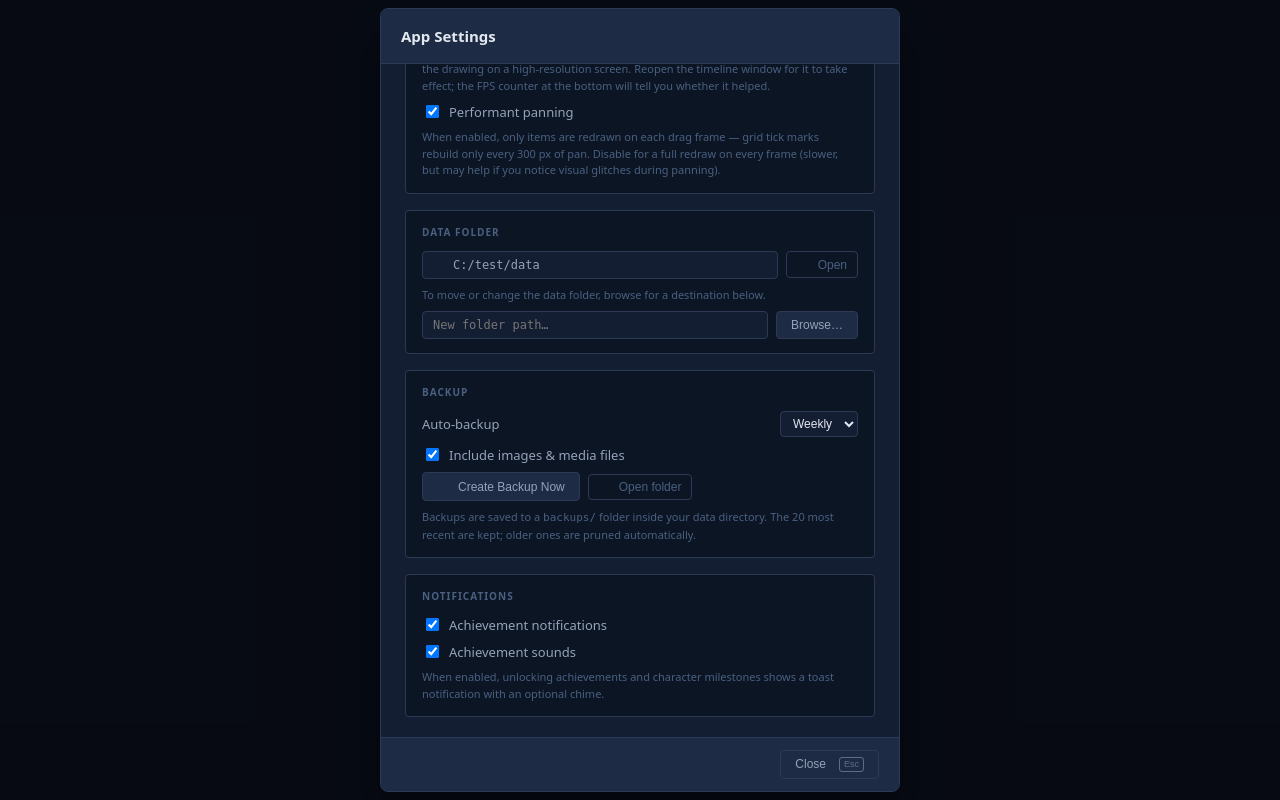
Test case: AppSettingsModal — backup section › recent-backups list refreshes after backup creation
(page scrolled)
Click the button "Create Backup Now" at {"x": 501, "y": 486}, box [422,472,580,501]
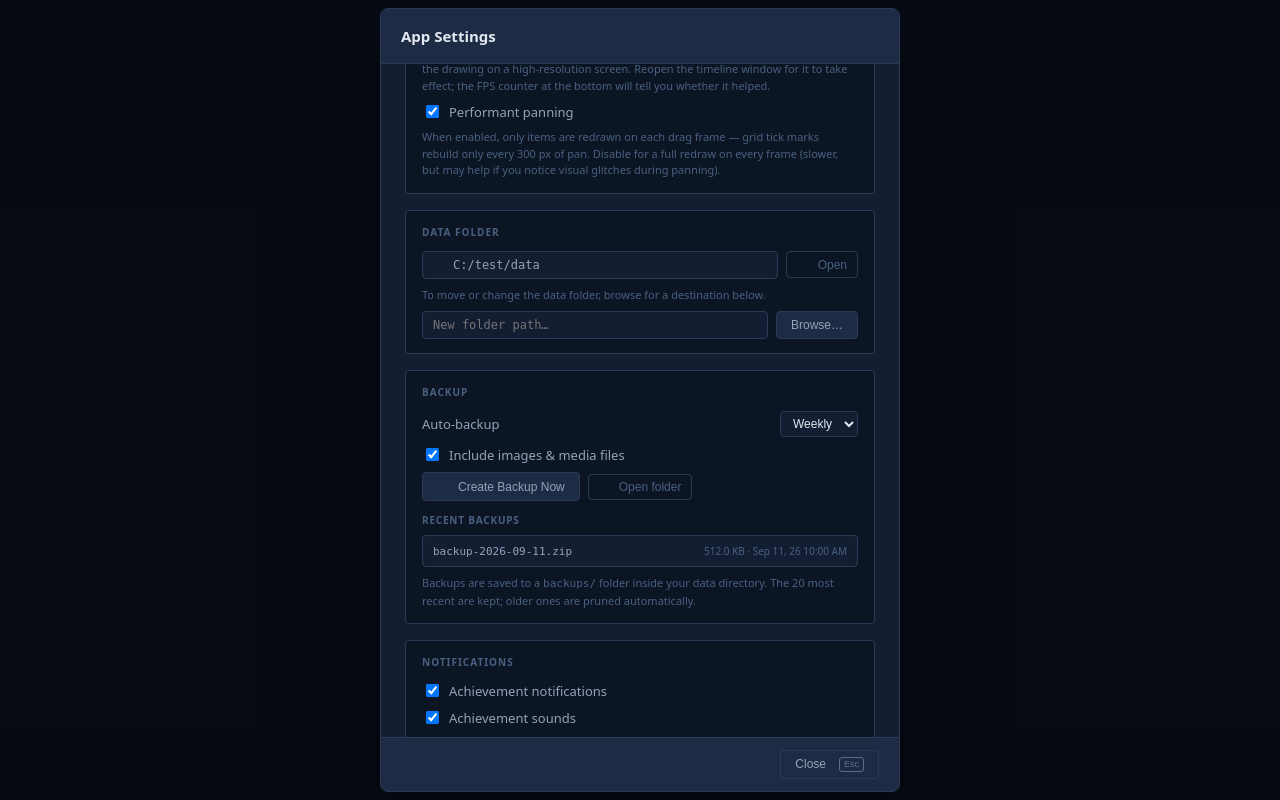
Result: the element with class "recent-backups" is shown at [422,535,858,567]
